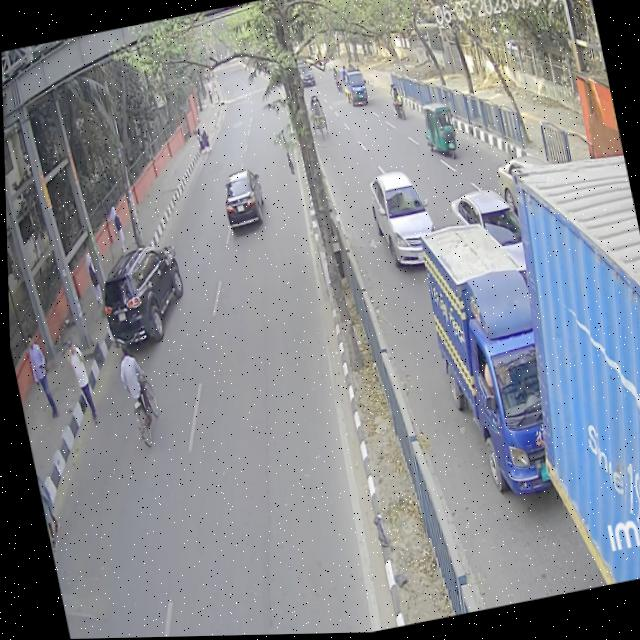cng: (415, 91, 463, 171)
rikshaw: (306, 92, 331, 145)
